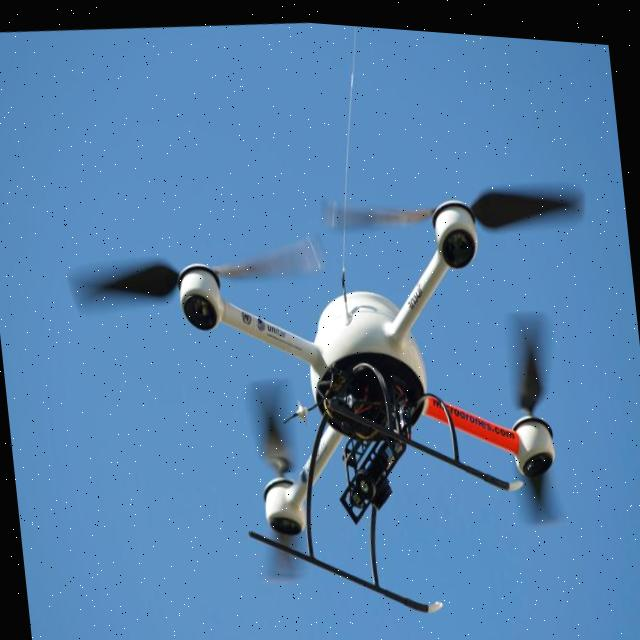drone: (57, 127, 640, 623)
